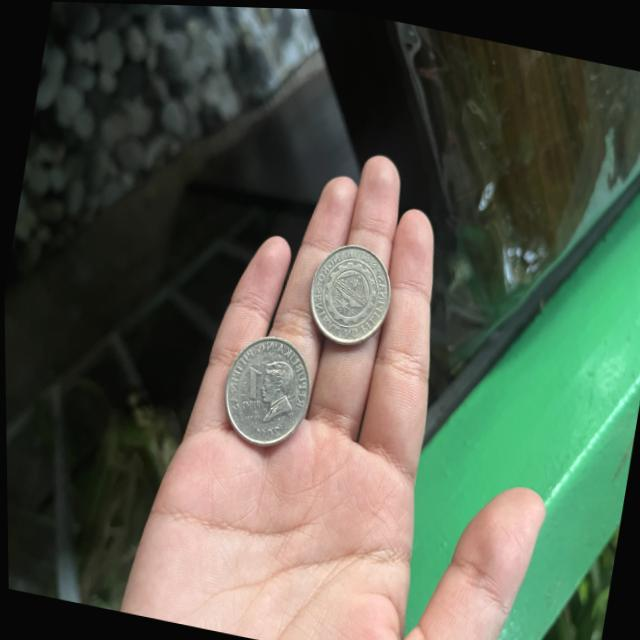1_Old_Back: (311, 241, 395, 338)
1_Old_Front: (225, 342, 308, 437)
